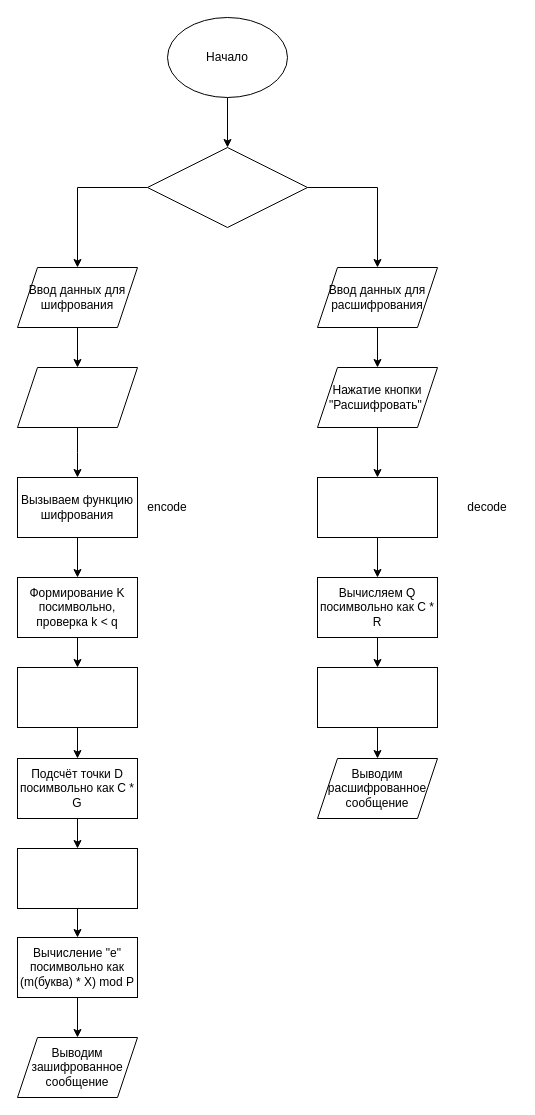
Some shapes in this 535 by 1115 pixel diagram are drawn without their labels. The shapes that lost their labels are listed below. From the top down, each one's box as (x1, y1, x2, y2) in pixels, then its label:
(146, 146, 308, 228): Выбор дальнейшего действия
(16, 366, 138, 428): Нажатие кнопки "Шифровать"
(316, 476, 438, 538): Вызываем функцию расшифрования
(16, 666, 138, 728): Подсчёт точки R посимвольно как K*G
(316, 666, 438, 728): Дешифруем посимвольно
(16, 848, 138, 908): Подсчёт точки P посимвольно как K * D
